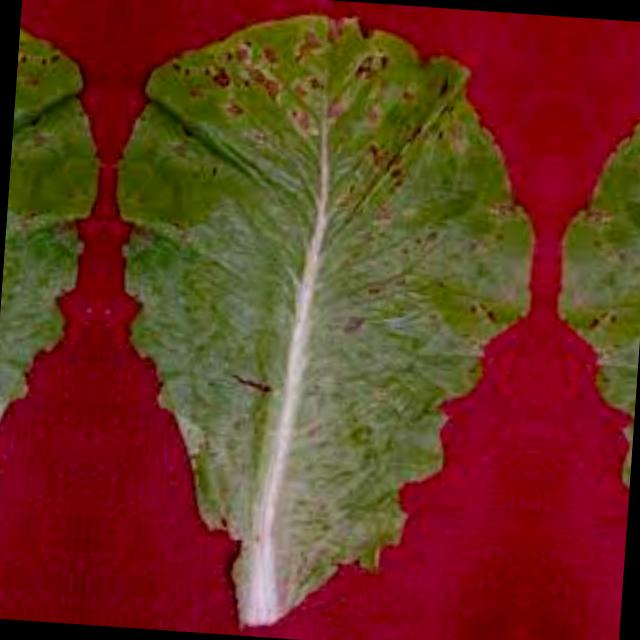Lettuce - Anthracnose: (76, 0, 563, 640), (519, 25, 640, 640), (0, 0, 118, 623)
